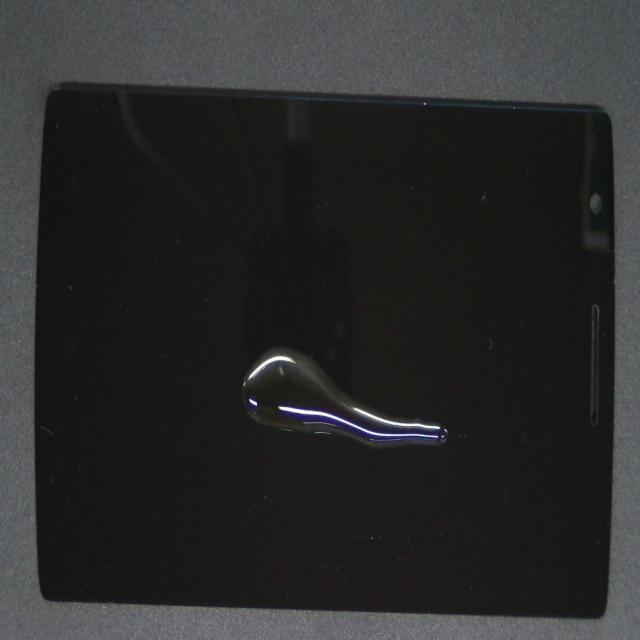oil: (234, 235, 640, 640)
